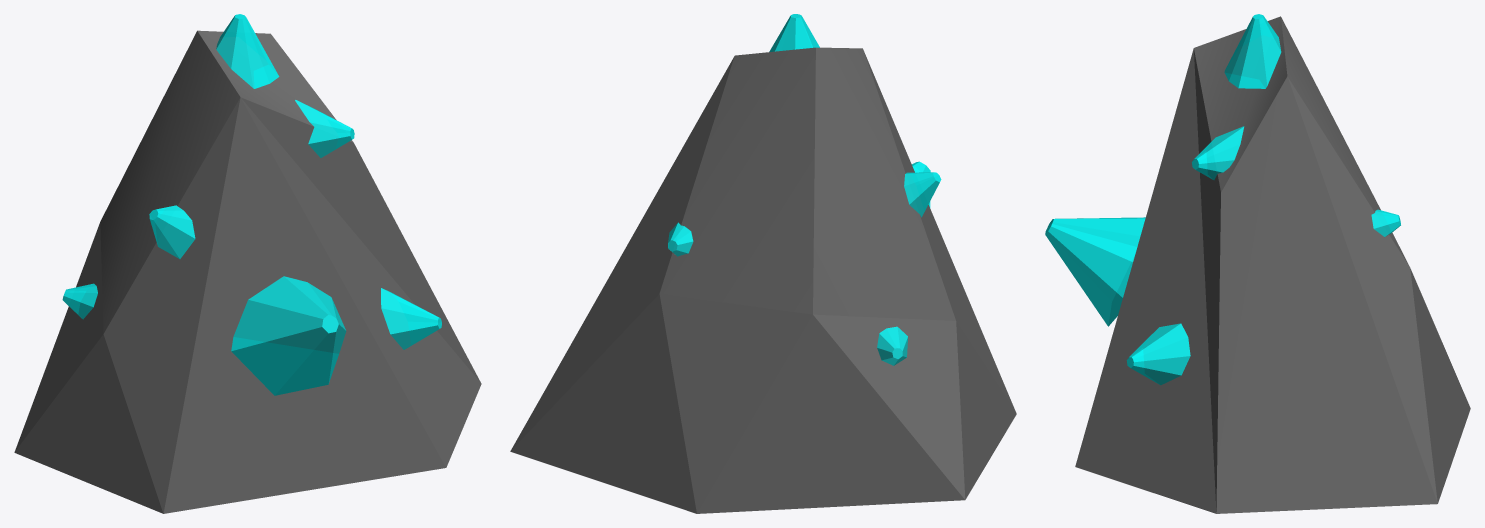
Rendered from Ore_Node_01.fbx.
3 views of the same model, side by side, from view 1: azimuth 30°, elevation 25°; view 2: azimuth 150°, elevation 25°; view 3: azimuth 270°, elevation 25° (orthographic). The views are drawn at different scales.
Parts seen in each view (by area): view 1: Model; view 2: Model; view 3: Model.
Boxes of the visible parts, <box> form: Model: <box>14,14,481,513</box>; Model: <box>510,14,1016,513</box>; Model: <box>1045,14,1470,513</box>.
Size of the model in its own units: 225 by 238 by 205.
